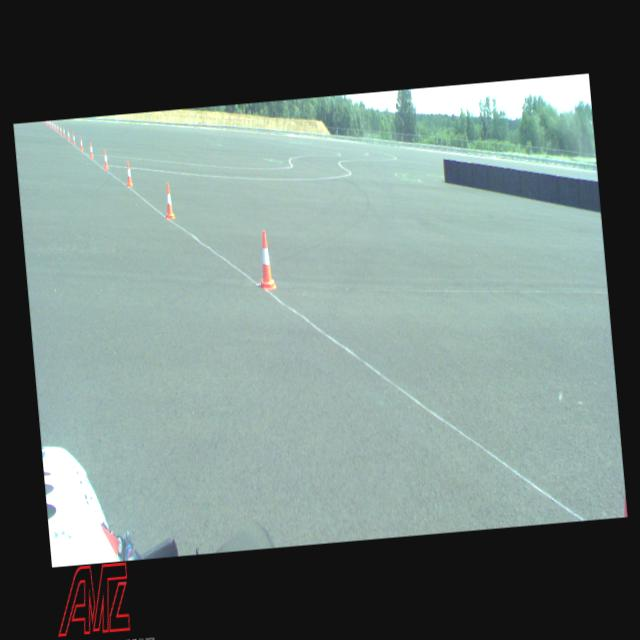orange_cone: (255, 231, 275, 289), (162, 182, 175, 218), (124, 160, 132, 186), (102, 148, 108, 168), (88, 142, 94, 158), (78, 136, 84, 150), (66, 129, 70, 140), (72, 133, 76, 144), (62, 126, 65, 136), (59, 125, 62, 134), (56, 124, 59, 132), (54, 122, 56, 130), (52, 122, 54, 128)
